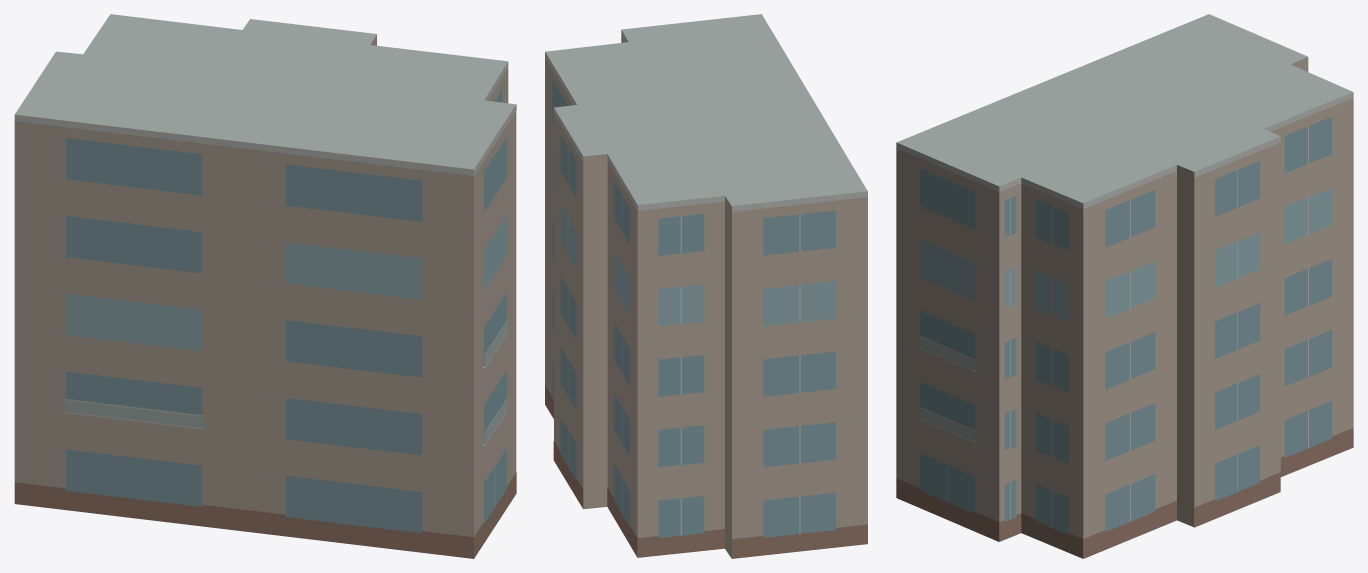
Rendered from survey-upis-32881784.glb.
3 views of the same model, side by side, from view 1: azimuth 30°, elevation 25°; view 2: azimuth 150°, elevation 25°; view 3: azimuth 270°, elevation 25° (orthographic). The views are drawn at different scales.
Visible parts, largest first — view 1: survey-upis-32881784.tmp; view 2: survey-upis-32881784.tmp; view 3: survey-upis-32881784.tmp.
Boxes of the visible parts, bbox=[...] form: survey-upis-32881784.tmp: bbox=[14, 14, 516, 558]; survey-upis-32881784.tmp: bbox=[545, 14, 867, 558]; survey-upis-32881784.tmp: bbox=[896, 14, 1353, 558].
Bounding box in the file's own units: 16.8 × 14.7 × 17.14.
